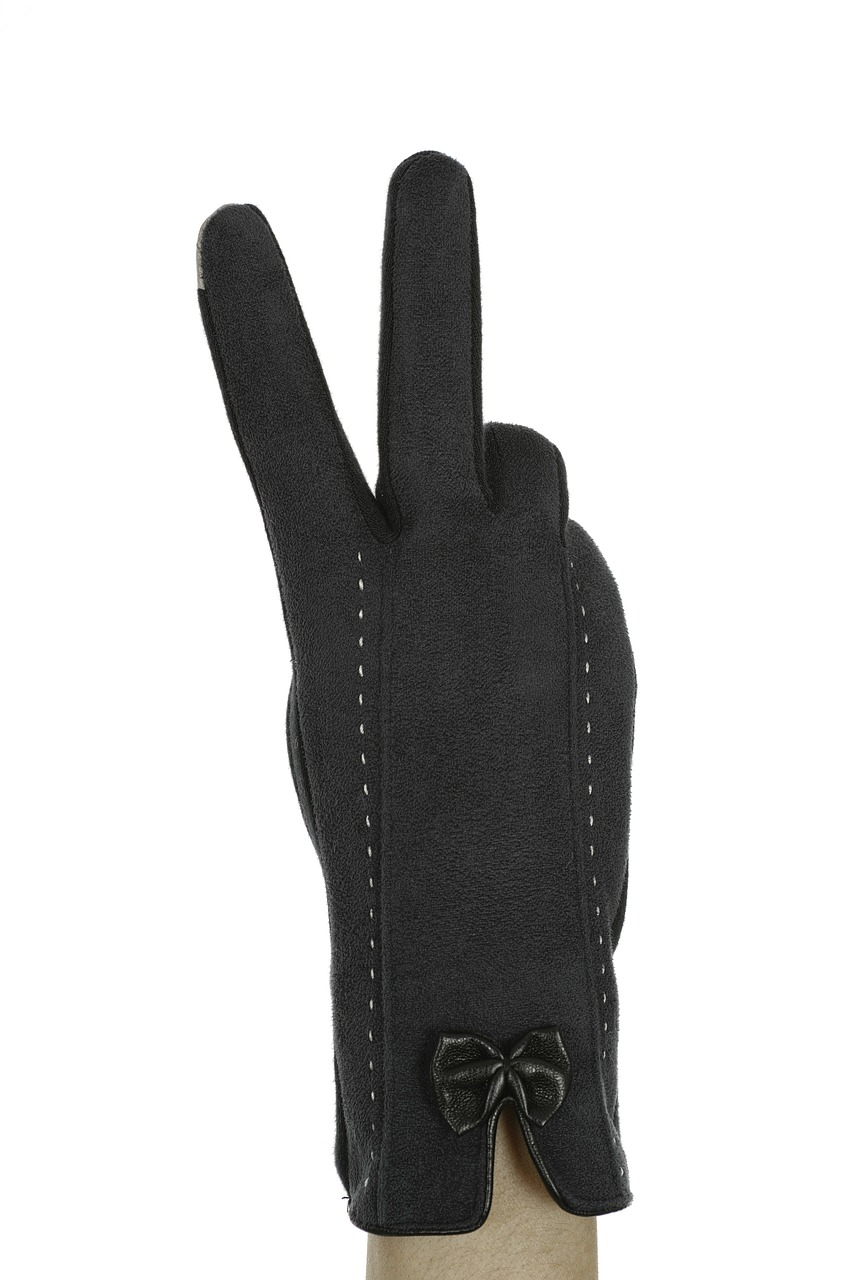peacesign: (176, 135, 563, 601)
